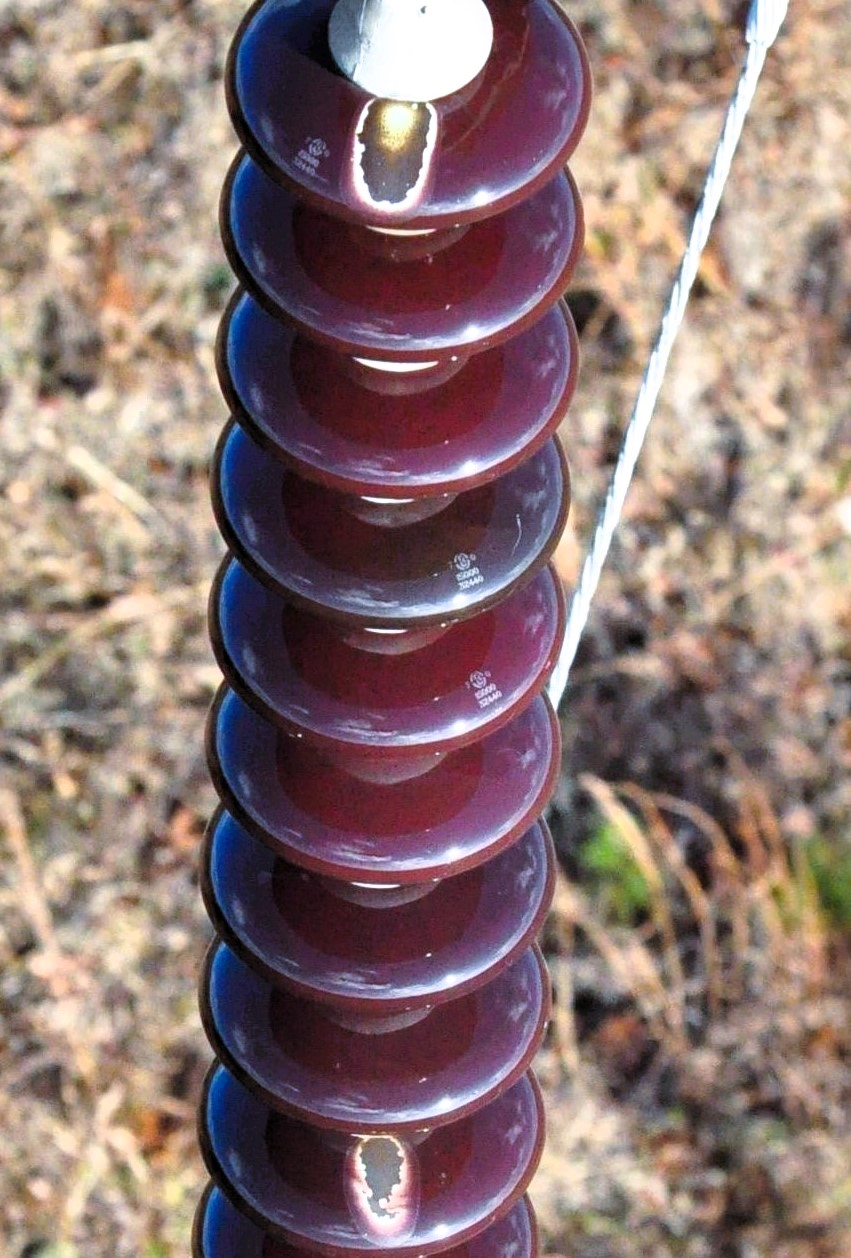Insulator flashover: (212, 1, 593, 231), (186, 1050, 552, 1258)
